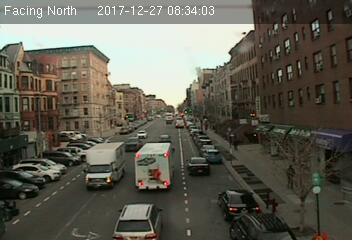car: (231, 205, 298, 240), (113, 202, 164, 240), (217, 189, 261, 219), (185, 155, 209, 176), (122, 137, 142, 149), (204, 148, 221, 161)
truck: (84, 143, 125, 190), (134, 142, 174, 188), (175, 118, 183, 127)
